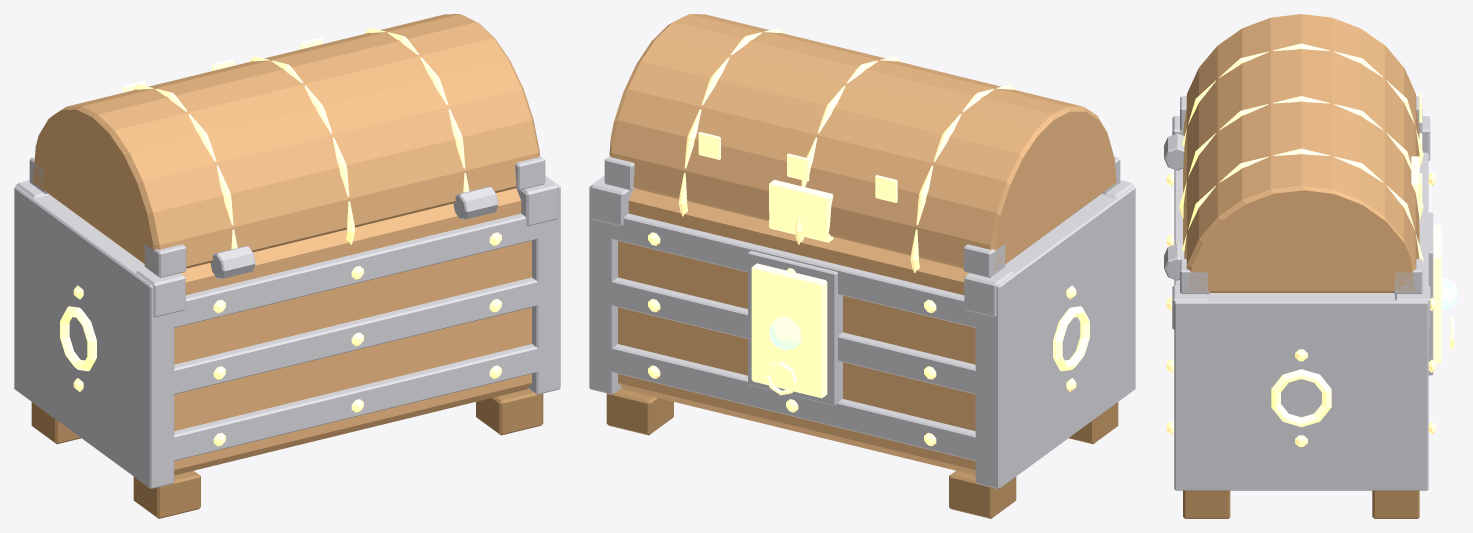
File: 25-Ruinas-Templos_cofre_ancestral.glb
3 views of the same model, side by side, from view 1: azimuth 30°, elevation 25°; view 2: azimuth 150°, elevation 25°; view 3: azimuth 270°, elevation 25° (orthographic). The views are drawn at different scales.
Parts seen in each view (by area): view 1: SM_Cofre_Tapa, SM_Cofre_Cuerpo, SM_Cofre_BandaV_I, SM_Cofre_BandaH_2, SM_Cofre_BandaH_1, SM_Cofre_BandaH_3, SM_Cofre_BandaV_D, SM_Cofre_Pie_DF, SM_Cofre_Pie_IF, SM_Cofre_Esquina_IF, SM_Cofre_Esquina_DF, SM_Cofre_Remaches (+9 smaller); view 2: SM_Cofre_Tapa, SM_Cofre_Cuerpo, SM_Cofre_BandaV_I, SM_Cofre_BandaH_1, SM_Cofre_BandaH_3, SM_Cofre_Cerradura, SM_Cofre_BandaH_2, SM_Cofre_BandaV_D, SM_Cofre_CerraduraMarco, SM_Cofre_Falleba, SM_Cofre_Pie_DT, SM_Cofre_Pie_IT (+12 smaller); view 3: SM_Cofre_Tapa, SM_Cofre_BandaV_D, SM_Cofre_BandaH_3, SM_Cofre_Asa_D, SM_Cofre_Pie_DT, SM_Cofre_Pie_DF, SM_Cofre_Cerradura, SM_Cofre_Costilla_2, SM_Cofre_Costilla_3, SM_Cofre_Costilla_1, SM_Cofre_Remaches, SM_Cofre_CerraduraMarco (+10 smaller).
Part boxes in pixels (<box>): SM_Cofre_Tapa: <box>33,14,539,269</box>; SM_Cofre_Cuerpo: <box>174,188,531,475</box>; SM_Cofre_BandaV_I: <box>14,186,174,488</box>; SM_Cofre_BandaH_2: <box>156,277,555,397</box>; SM_Cofre_BandaH_1: <box>156,344,555,464</box>; SM_Cofre_BandaH_3: <box>156,213,555,331</box>; SM_Cofre_BandaV_D: <box>528,176,560,394</box>; SM_Cofre_Pie_DF: <box>476,388,543,435</box>; SM_Cofre_Pie_IF: <box>133,470,200,518</box>; SM_Cofre_Esquina_IF: <box>136,268,185,317</box>; SM_Cofre_Esquina_DF: <box>517,176,558,226</box>; SM_Cofre_Remaches: <box>73,232,501,446</box>; SM_Cofre_Tapa: <box>609,14,1116,271</box>; SM_Cofre_Cuerpo: <box>618,188,975,475</box>; SM_Cofre_BandaV_I: <box>975,186,1135,488</box>; SM_Cofre_BandaH_1: <box>594,344,993,464</box>; SM_Cofre_BandaH_3: <box>594,213,993,331</box>; SM_Cofre_Cerradura: <box>751,263,827,398</box>; SM_Cofre_BandaH_2: <box>594,277,993,397</box>; SM_Cofre_BandaV_D: <box>589,176,621,394</box>; SM_Cofre_CerraduraMarco: <box>748,251,842,405</box>; SM_Cofre_Falleba: <box>769,179,833,242</box>; SM_Cofre_Pie_DT: <box>606,388,673,435</box>; SM_Cofre_Pie_IT: <box>949,470,1016,518</box>; SM_Cofre_Tapa: <box>1183,14,1419,292</box>; SM_Cofre_BandaV_D: <box>1174,293,1428,490</box>; SM_Cofre_BandaH_3: <box>1174,152,1428,284</box>; SM_Cofre_Asa_D: <box>1271,369,1331,427</box>; SM_Cofre_Pie_DT: <box>1372,490,1419,518</box>; SM_Cofre_Pie_DF: <box>1183,490,1230,518</box>; SM_Cofre_Cerradura: <box>1433,224,1441,363</box>; SM_Cofre_Costilla_2: <box>1179,96,1423,219</box>; SM_Cofre_Costilla_3: <box>1182,148,1423,262</box>; SM_Cofre_Costilla_1: <box>1182,43,1423,167</box>; SM_Cofre_Remaches: <box>1166,173,1435,446</box>; SM_Cofre_CerraduraMarco: <box>1428,212,1433,375</box>.
Bounding box in the file's own units: 0.7731 × 0.6266 × 0.498.
